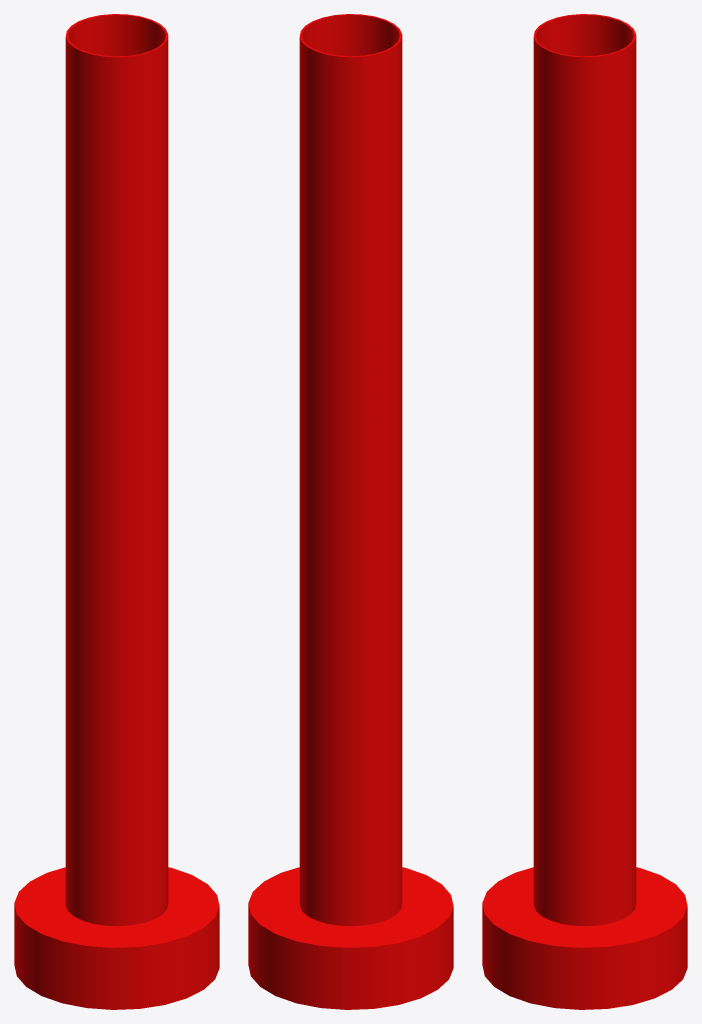
The model's file is red_flare.dae.
3 views of the same model, side by side, from view 1: azimuth 30°, elevation 25°; view 2: azimuth 150°, elevation 25°; view 3: azimuth 270°, elevation 25° (orthographic).
Visible parts, largest first — view 1: SketchUp.002, SketchUp, SketchUp.001; view 2: SketchUp.002, SketchUp, SketchUp.001; view 3: SketchUp.002, SketchUp, SketchUp.001.
Boxes of the visible parts, left/top/right/bottom form: SketchUp.002: left=65, top=14, right=168, bottom=926; SketchUp: left=14, top=867, right=219, bottom=1009; SketchUp.001: left=68, top=15, right=165, bottom=56; SketchUp.002: left=299, top=14, right=402, bottom=926; SketchUp: left=248, top=867, right=453, bottom=1009; SketchUp.001: left=302, top=15, right=399, bottom=56; SketchUp.002: left=533, top=14, right=636, bottom=926; SketchUp: left=482, top=867, right=687, bottom=1009; SketchUp.001: left=536, top=15, right=633, bottom=56.
Size of the model in its own units: 0.2998 by 0.2998 by 1.5.
